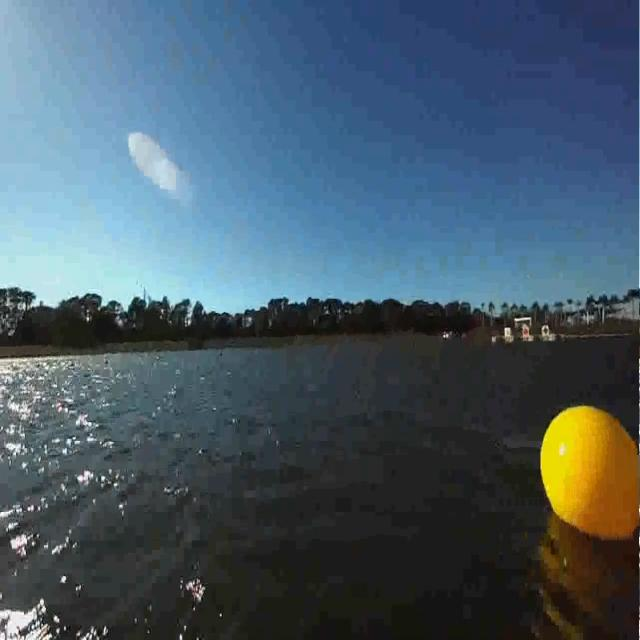yellow-buoy: (536, 404, 638, 546)
